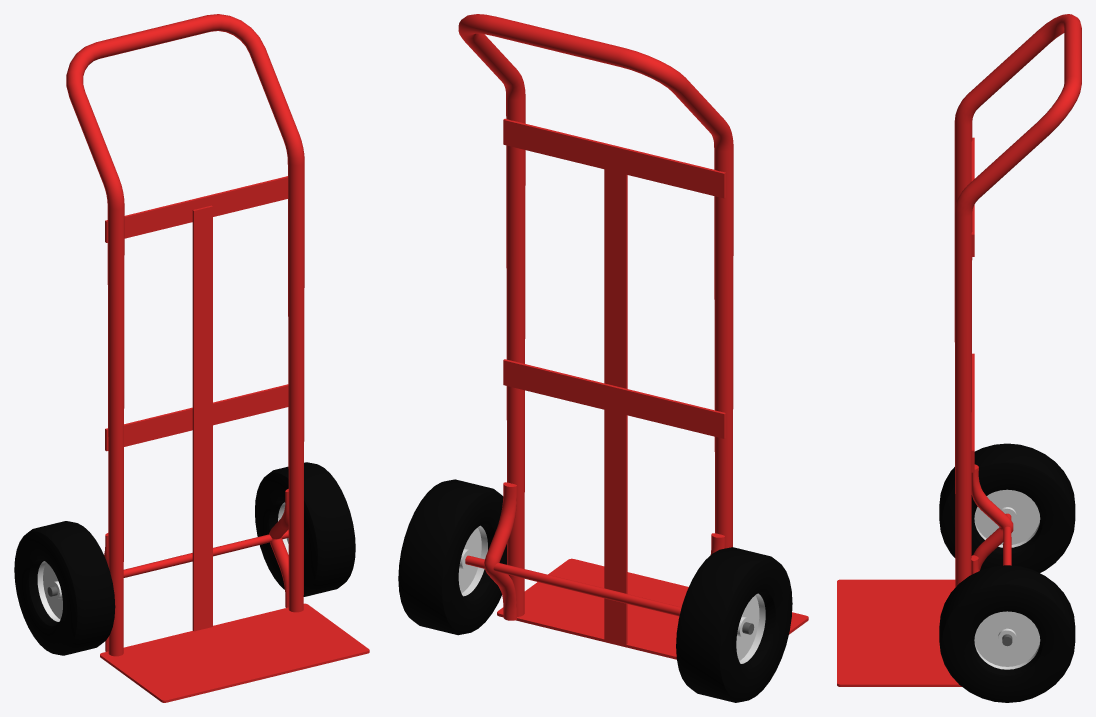
The model's file is handtruck.fbx.
3 views of the same model, side by side, from view 1: azimuth 30°, elevation 25°; view 2: azimuth 150°, elevation 25°; view 3: azimuth 270°, elevation 25° (orthographic). The views are drawn at different scales.
Visible parts, largest first — view 1: hand truck, wheel.r, wheel.l; view 2: hand truck, wheel.r, wheel.l; view 3: hand truck, wheel.l, wheel.r.
Part boxes in pixels (x1,y1,x2,y2): hand truck: [66, 14, 369, 702]; wheel.r: [14, 521, 115, 655]; wheel.l: [255, 462, 355, 596]; hand truck: [458, 14, 808, 659]; wheel.r: [676, 547, 792, 702]; wheel.l: [398, 479, 506, 635]; hand truck: [837, 14, 1081, 686]; wheel.l: [939, 565, 1075, 702]; wheel.r: [939, 443, 1075, 572].
Bounding box in the file's own units: 90.4 × 173 × 65.46.
